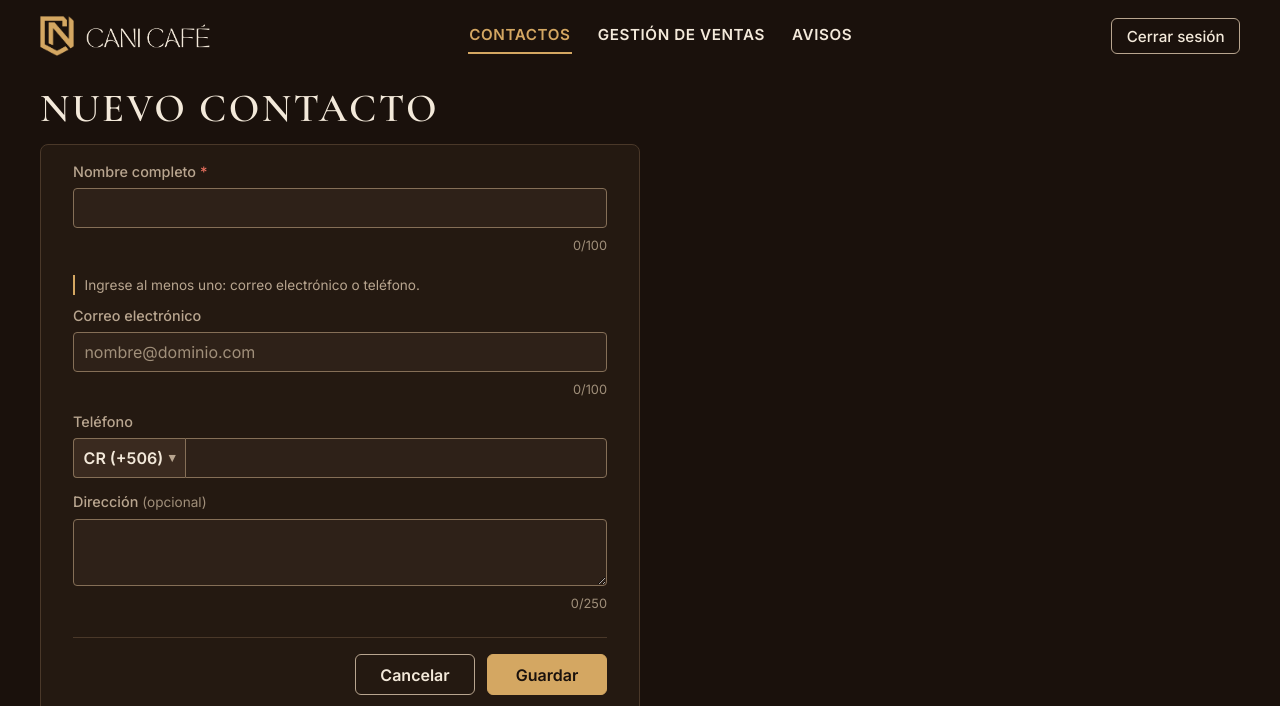
Test case: HU-202 Teléfonos de Costa Rica y de otros países › el buscador encuentra "ni"
Click the button with aria-label "País del teléfono".
click(129, 458)  # box [73,438,185,478]
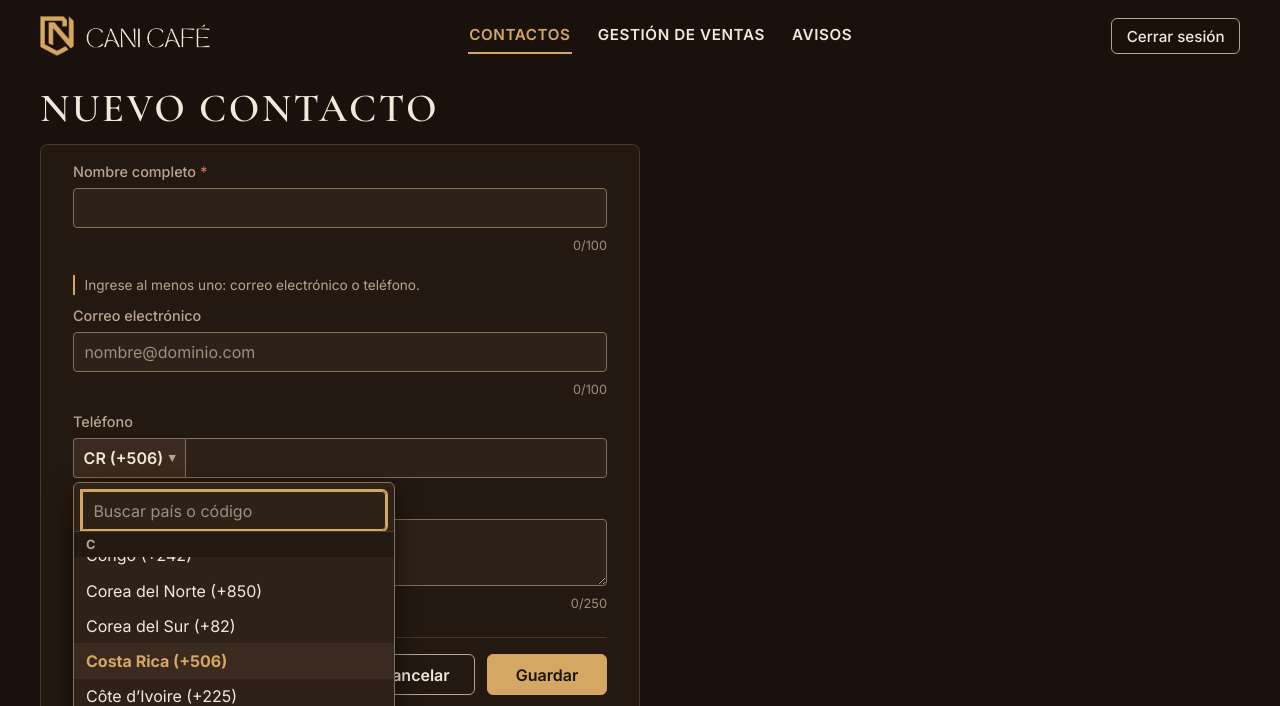
Type "ni" into the dropdown labelled "Buscar país".
click(234, 510); type("ni")  # box [82,491,386,530]
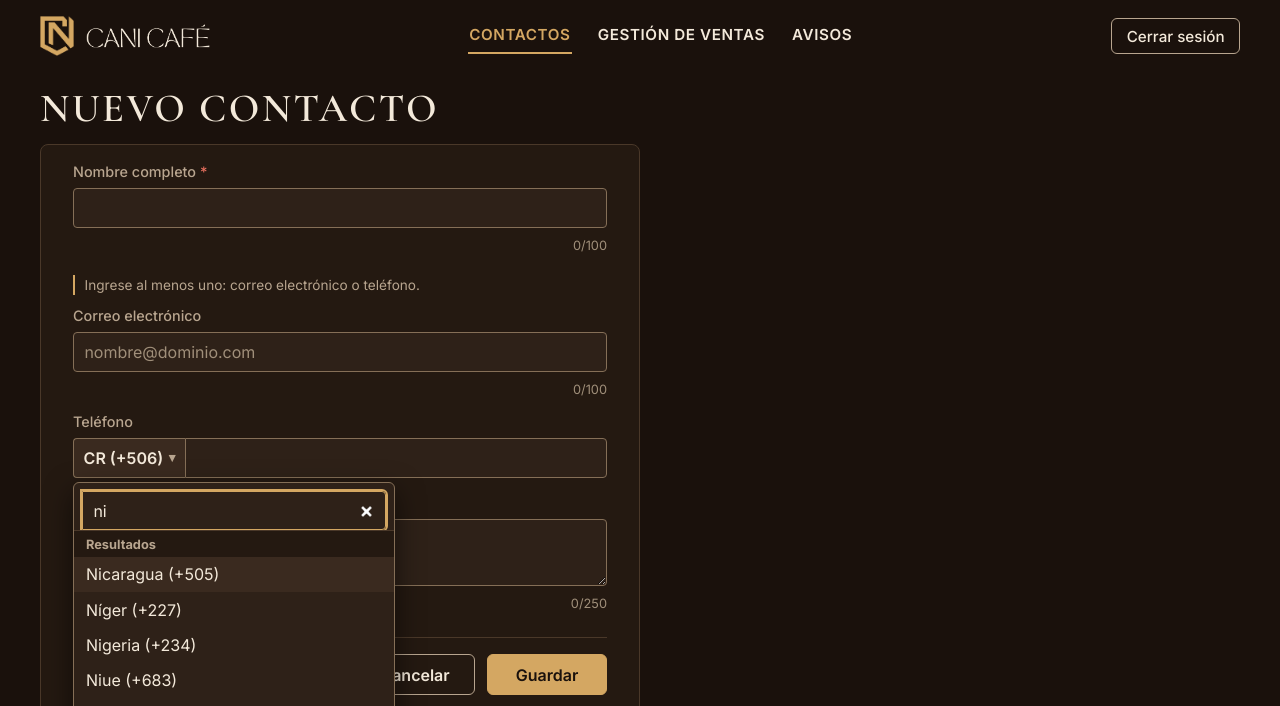
Expected: the option "Nicaragua (+505)" is shown, [74,557,394,592]
